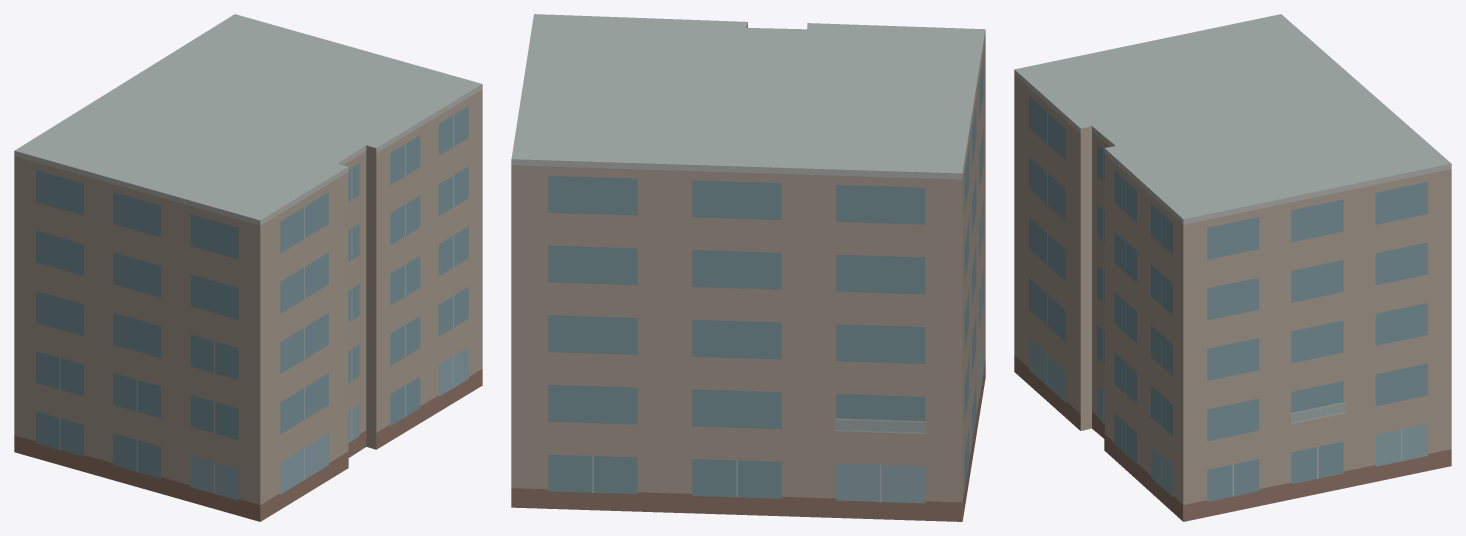
The model's file is survey-upis-32904227.glb.
3 views of the same model, side by side, from view 1: azimuth 30°, elevation 25°; view 2: azimuth 150°, elevation 25°; view 3: azimuth 270°, elevation 25° (orthographic). The views are drawn at different scales.
Visible parts, largest first — view 1: survey-upis-32904227.tmp; view 2: survey-upis-32904227.tmp; view 3: survey-upis-32904227.tmp.
Boxes of the visible parts, left/top/right/bottom form: survey-upis-32904227.tmp: left=14, top=14, right=482, bottom=521; survey-upis-32904227.tmp: left=511, top=14, right=985, bottom=521; survey-upis-32904227.tmp: left=1014, top=14, right=1451, bottom=521.
Size of the model in its own units: 20.11 by 13.8 by 18.09.
